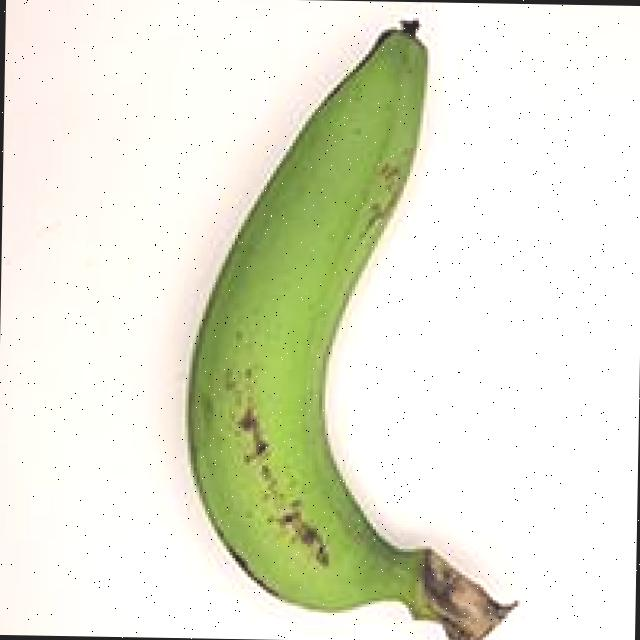Raw: (131, 0, 534, 640)
